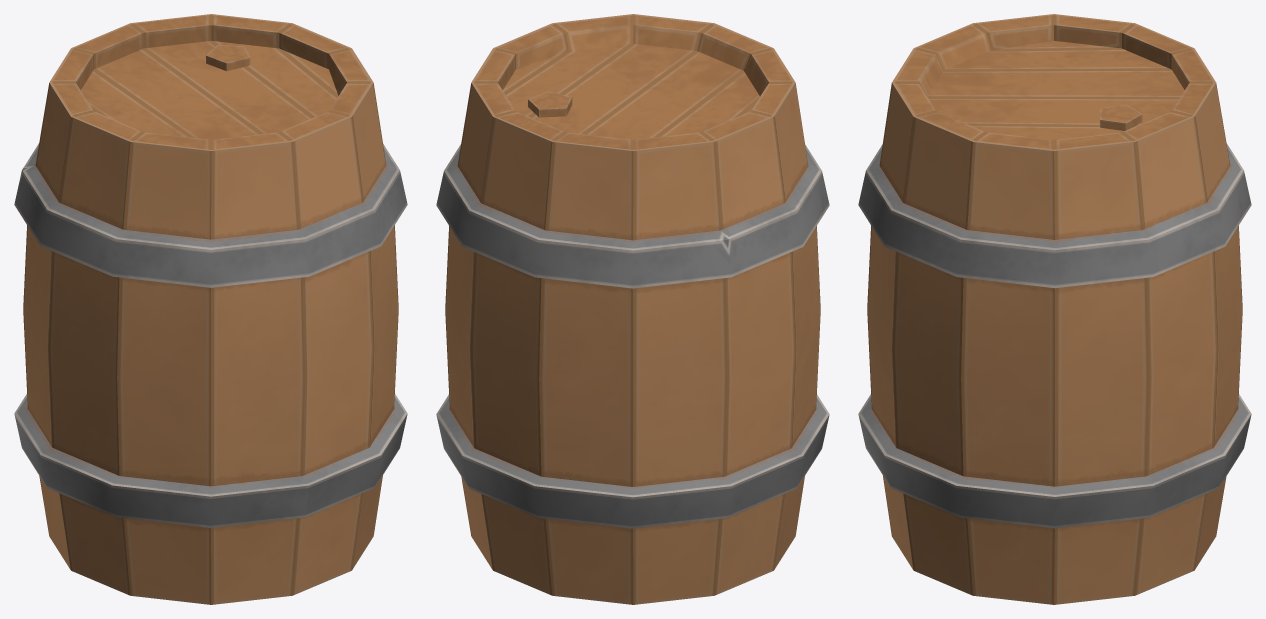
File: Barrel.fbx
3 renders of one model, left to right at view 1: azimuth 30°, elevation 25°; view 2: azimuth 150°, elevation 25°; view 3: azimuth 270°, elevation 25°, orthographic.
Visible parts, largest first — view 1: Barrel_LOD0; view 2: Barrel_LOD0; view 3: Barrel_LOD0.
Part boxes in pixels (x1,y1,x2,y2): Barrel_LOD0: (14,14,407,604); Barrel_LOD0: (436,14,829,604); Barrel_LOD0: (858,14,1251,604).
Size of what is drawn, in the model's own units: 70.76 by 90.08 by 70.76.
